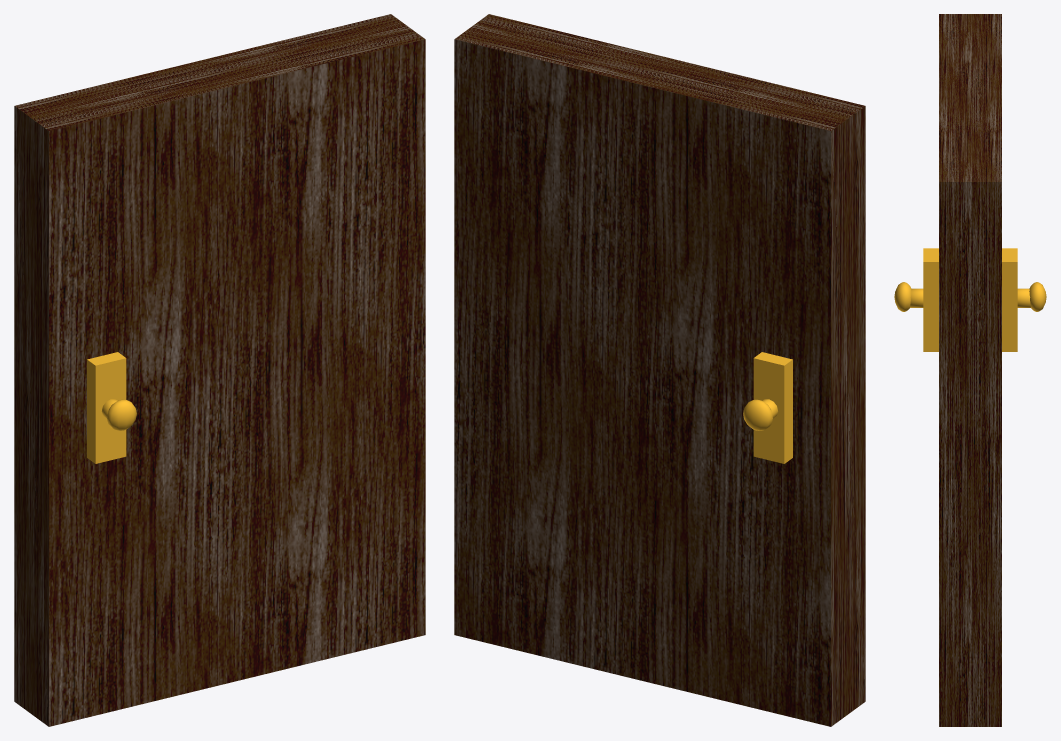
The model's file is door.glb.
The picture shows the model from 3 angles, left to right: view 1: azimuth 30°, elevation 25°; view 2: azimuth 150°, elevation 25°; view 3: azimuth 270°, elevation 25°; orthographic projection. The views are drawn at different scales.
Visible parts, largest first — view 1: door-convcol, handle; view 2: door-convcol, handle; view 3: door-convcol, handle.
Part boxes in pixels (x1,y1,x2,y2): door-convcol: (14, 14, 425, 726); handle: (87, 352, 136, 463); door-convcol: (454, 14, 865, 726); handle: (743, 352, 792, 463); door-convcol: (939, 14, 1001, 726); handle: (894, 248, 1046, 351).
Size of the model in its own units: 2.21 by 3.35 by 0.8474.
Materials: 2 (1 with a texture image).
